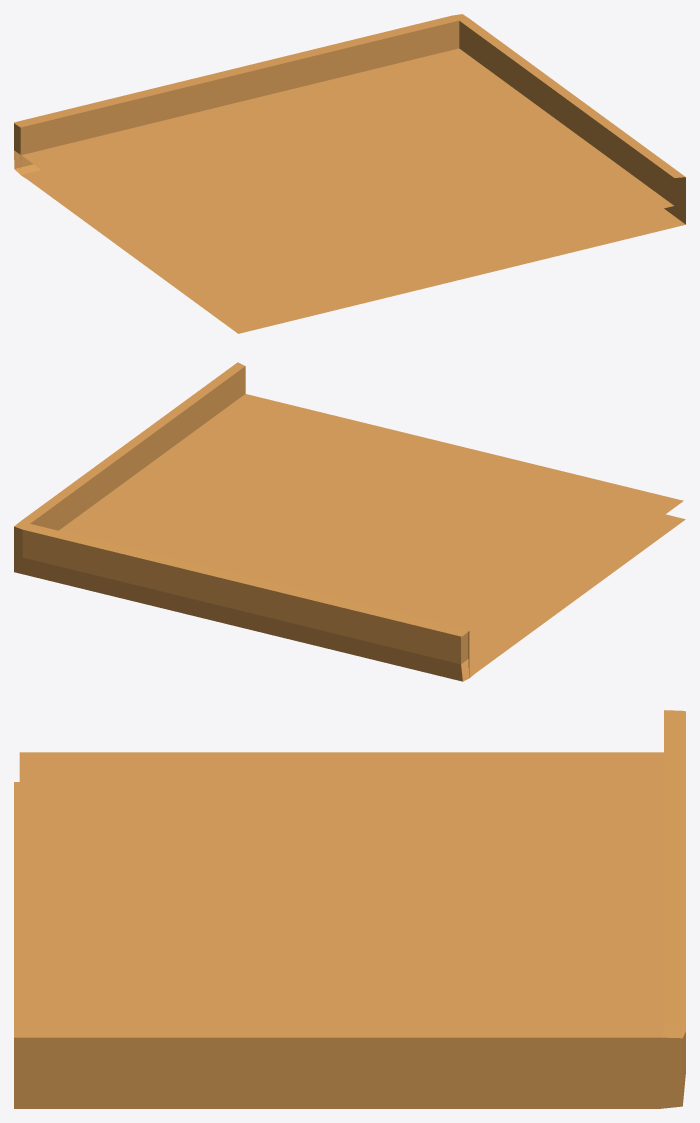
The model's file is golfsquare_end_2way.glb.
3 renders of one model, top to bottom at view 1: azimuth 30°, elevation 25°; view 2: azimuth 150°, elevation 25°; view 3: azimuth 270°, elevation 25°, orthographic. The views are drawn at different scales.
Parts seen in each view (by area): view 1: Cube; view 2: Cube; view 3: Cube.
Part boxes in pixels (bbox=[...]): Cube: bbox=[14, 14, 685, 333]; Cube: bbox=[14, 362, 685, 681]; Cube: bbox=[14, 710, 685, 1108].
Size of the model in its own units: 12.9 by 1.31 by 11.19.
